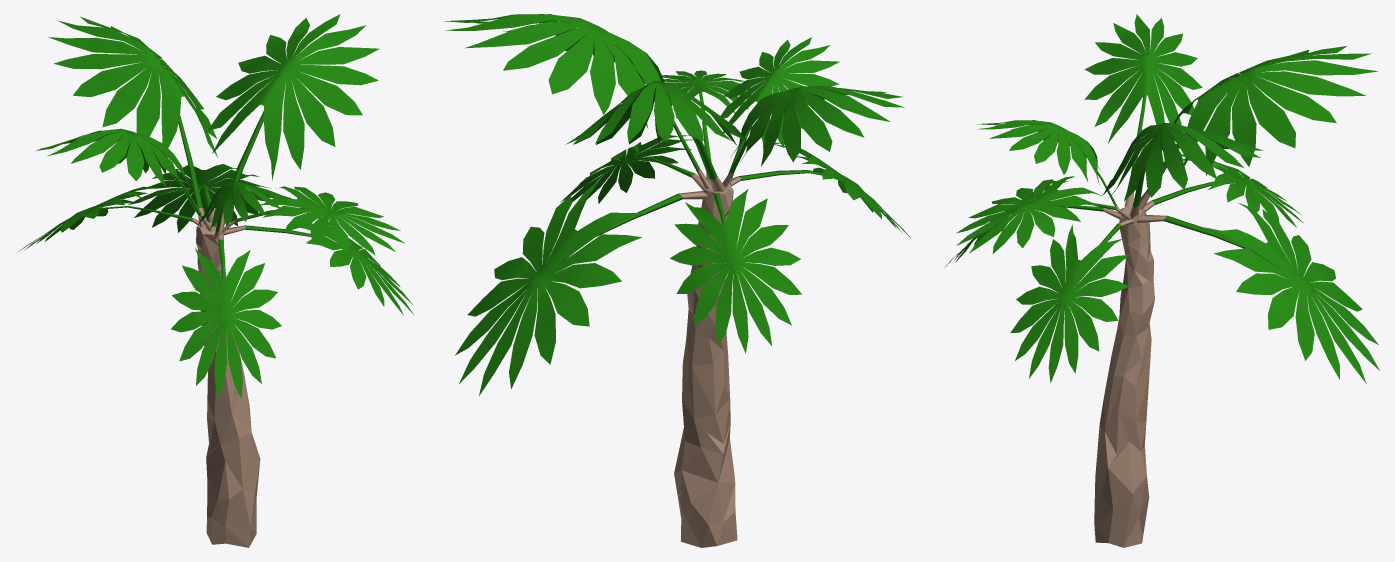
Rendered from Palm_01.fbx.
3 views of the same model, side by side, from view 1: azimuth 30°, elevation 25°; view 2: azimuth 150°, elevation 25°; view 3: azimuth 270°, elevation 25° (orthographic). The views are drawn at different scales.
Visible parts, largest first — view 1: Palm_01_canopy, Palm_01; view 2: Palm_01_canopy, Palm_01; view 3: Palm_01_canopy, Palm_01.
Part boxes in pixels (x1,y1,x2,y2): Palm_01_canopy: (17,14,413,398); Palm_01: (196,222,260,547); Palm_01_canopy: (444,14,910,395); Palm_01: (674,182,737,547); Palm_01_canopy: (944,14,1379,383); Palm_01: (1094,207,1154,547).
Size of the model in its own units: 4.49 by 5.39 by 4.59.
